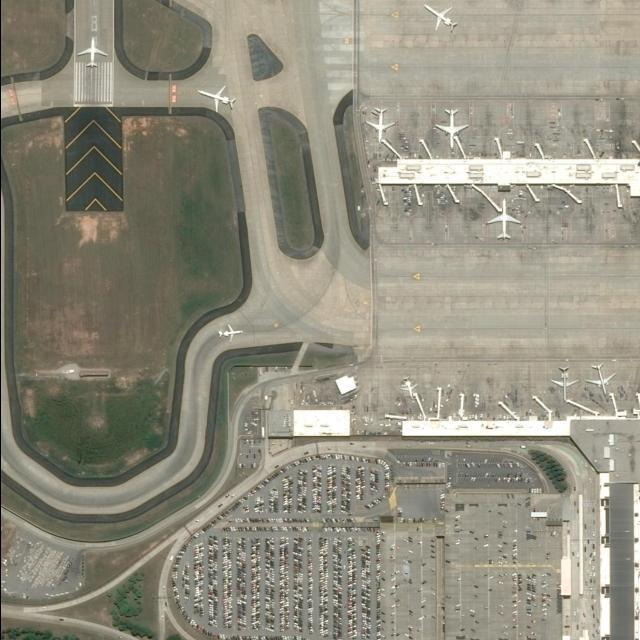Aircraft: (487, 200, 523, 242), (433, 107, 467, 150), (196, 84, 232, 114), (367, 107, 395, 145), (421, 5, 456, 35), (550, 365, 577, 403), (77, 36, 106, 71), (586, 362, 615, 397), (217, 323, 241, 344), (400, 376, 416, 398)
